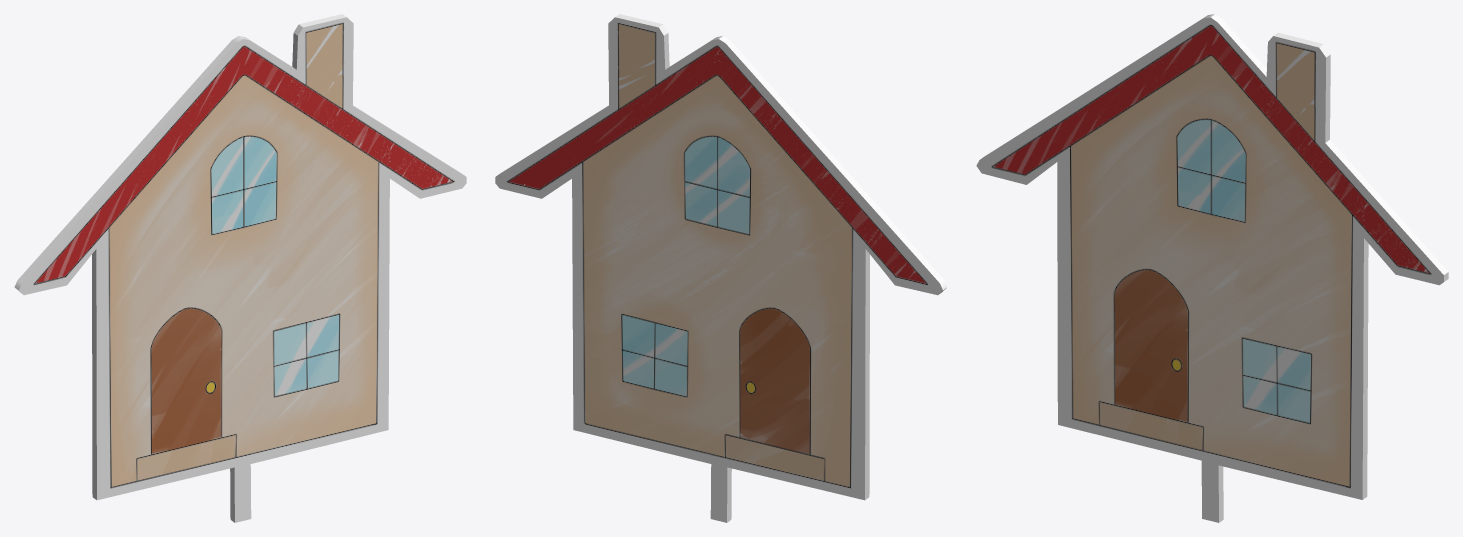
The model's file is house.fbx.
The picture shows the model from 3 angles, left to right: view 1: azimuth 30°, elevation 25°; view 2: azimuth 150°, elevation 25°; view 3: azimuth 330°, elevation 25°; orthographic projection. The views are drawn at different scales.
Visible parts, largest first — view 1: house3; view 2: house3; view 3: house3.
Part boxes in pixels (x1,y1,x2,y2): house3: (14, 14, 466, 522); house3: (495, 14, 947, 522); house3: (976, 14, 1448, 522).
Size of the model in its own units: 47.42 by 48.8 by 0.8179.
